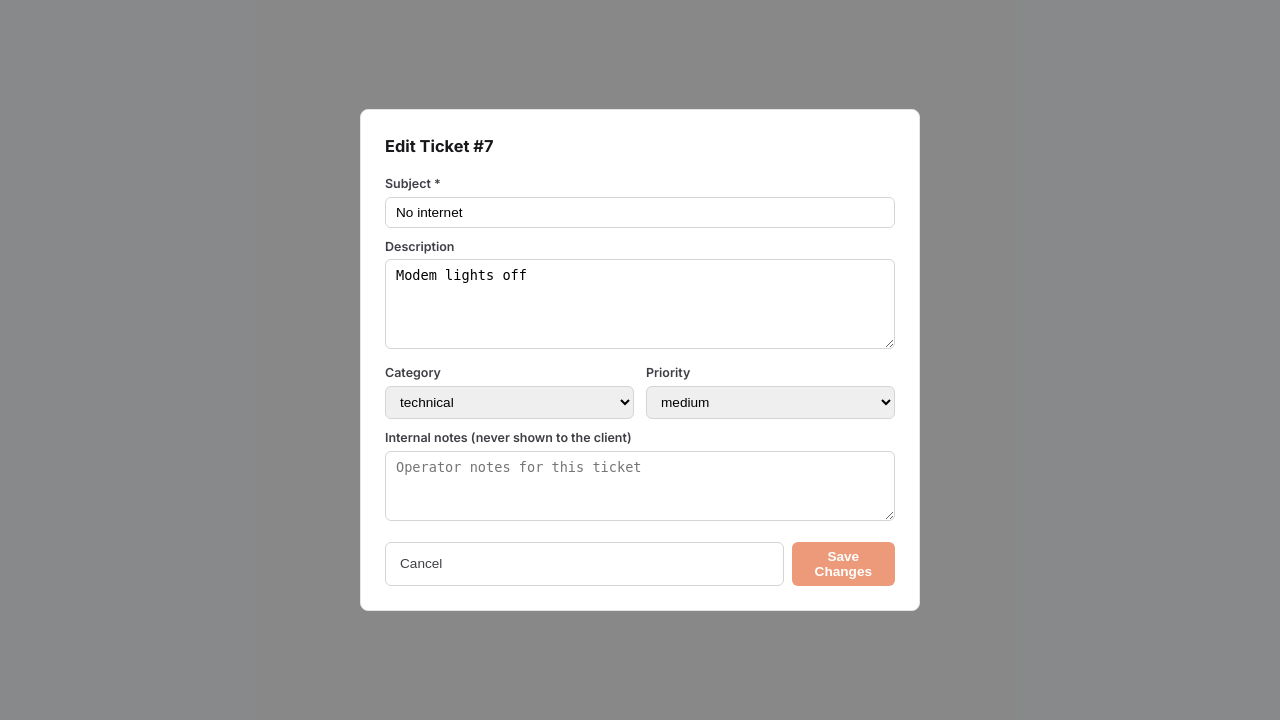
Test: EditTicketModal › shows the API error and stays open on failure
This screenshot has width=1280, height=720.
Select "critical" in the dropdown showing "medium" below "Priority" at (770, 402), box [646,386,895,419]
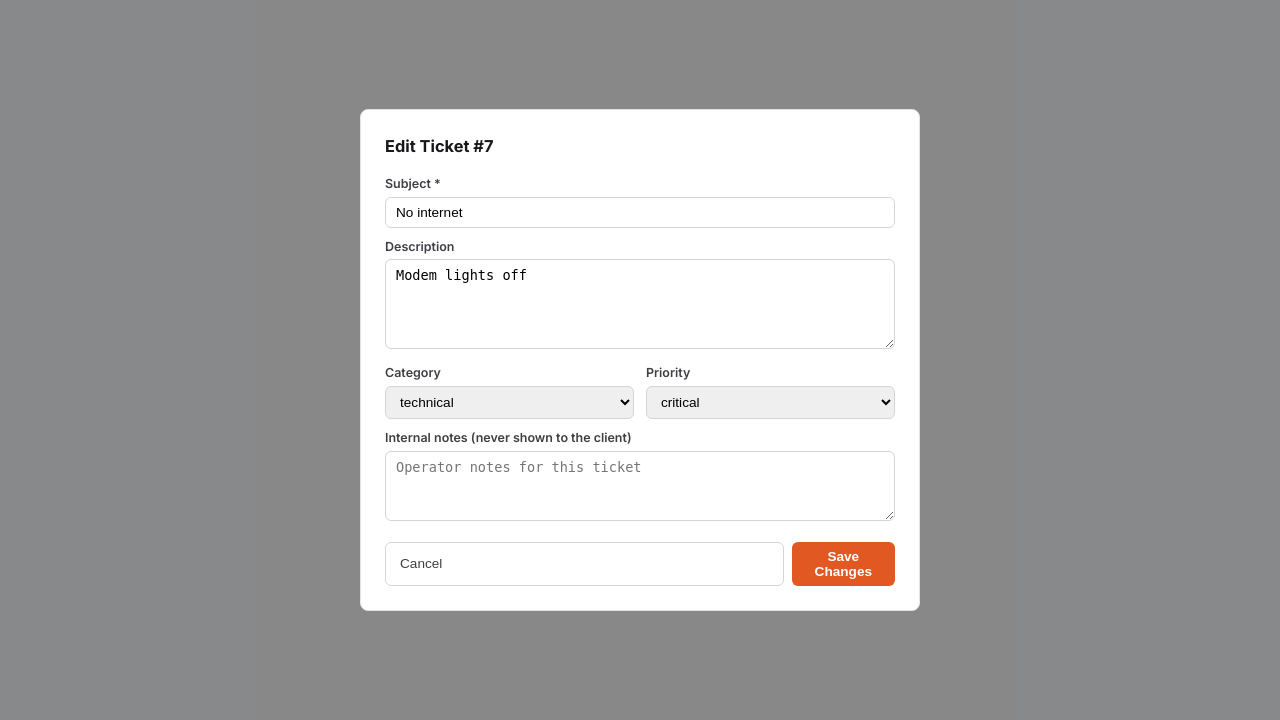
Click the button "Save Changes" at (843, 564), box [792,542,895,586]
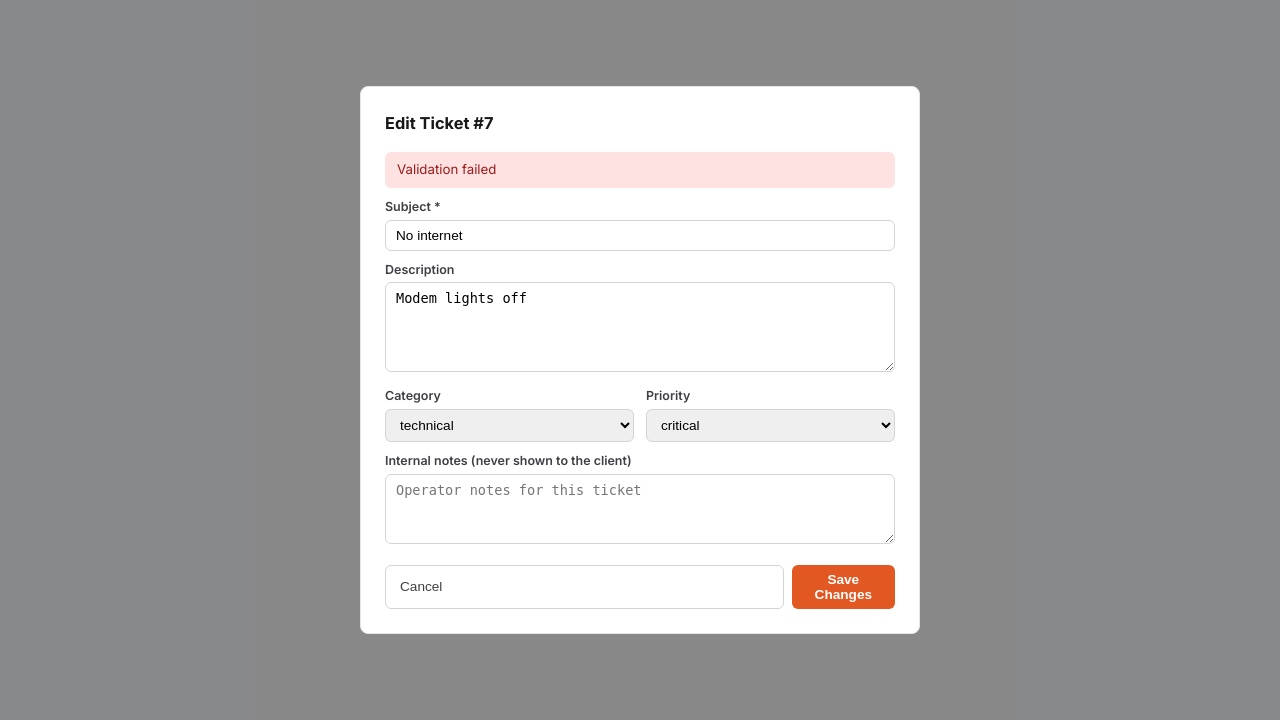
Expected: the text "Validation failed" is shown, [385,152,895,188]
